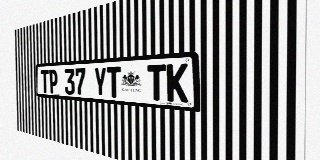3: (64, 68, 75, 95)
7: (75, 68, 86, 96)
K: (167, 63, 188, 103)
P: (49, 69, 58, 94)
T: (147, 64, 166, 101), (107, 66, 121, 98), (41, 70, 49, 93)
Y: (94, 67, 107, 97)
